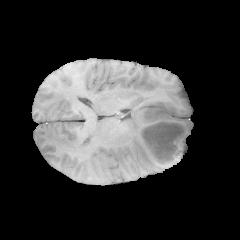glioma: (125, 104, 191, 169)
